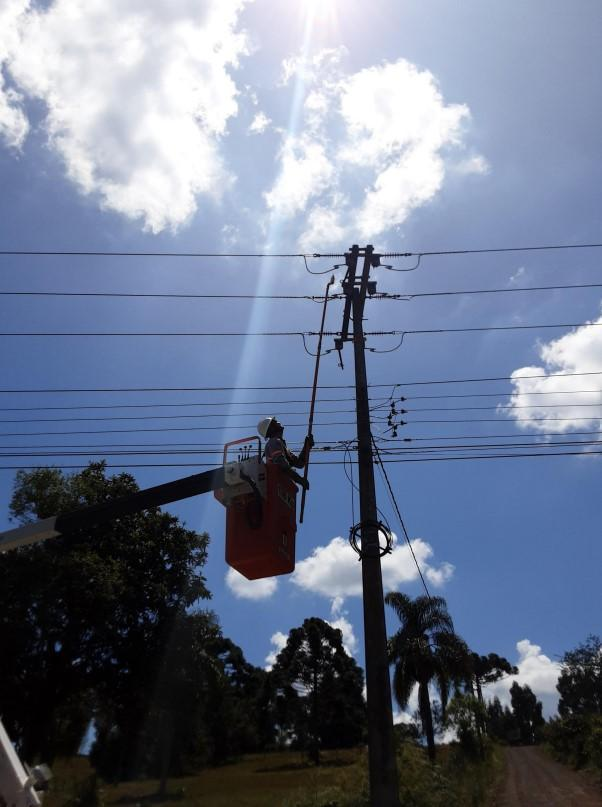Vara_Manobra: (296, 282, 331, 524)
